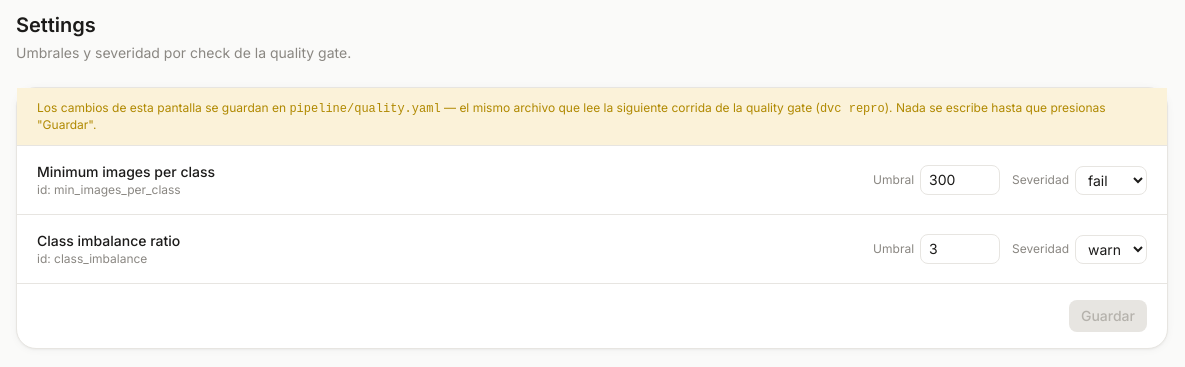
Settings persiste contra /quality-policy (APP-07) › muestra el error del backend cuando el PUT es rechazado (p. ej. min_images_per_class < 300)
Replace the text in the field labelled "Umbral" in the row of "Minimum images per class" with "100" at (960, 180), box [920, 165, 1000, 195]
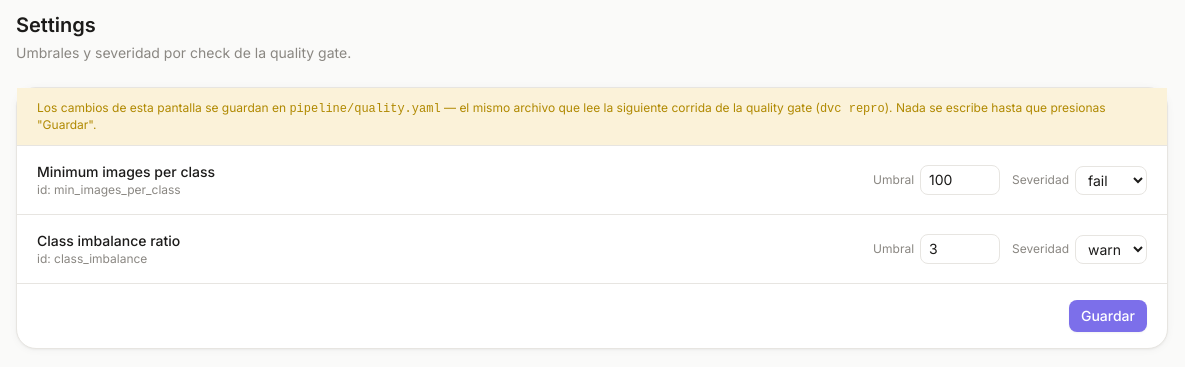
Click the button "Guardar".
click(1108, 316)  # box [1069, 300, 1147, 332]
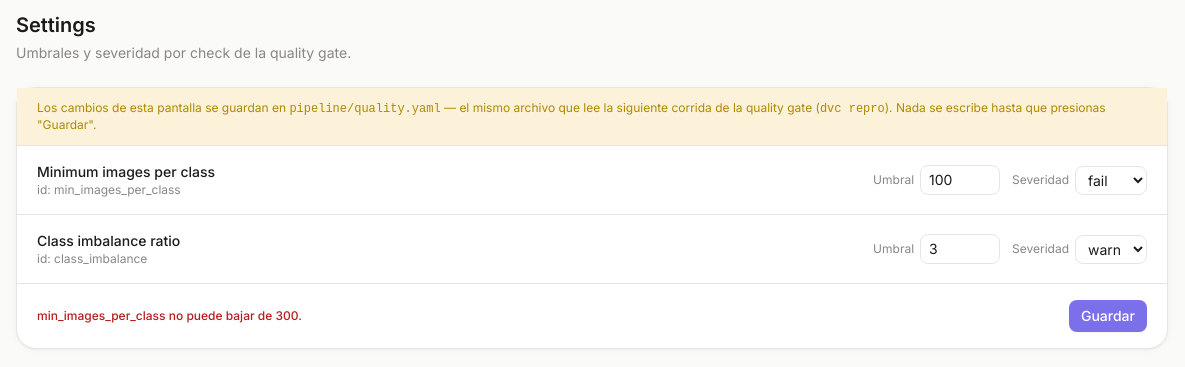
expect the text "min_images_per_class no puede bajar de 300." is shown: met, box [37, 308, 302, 323]
